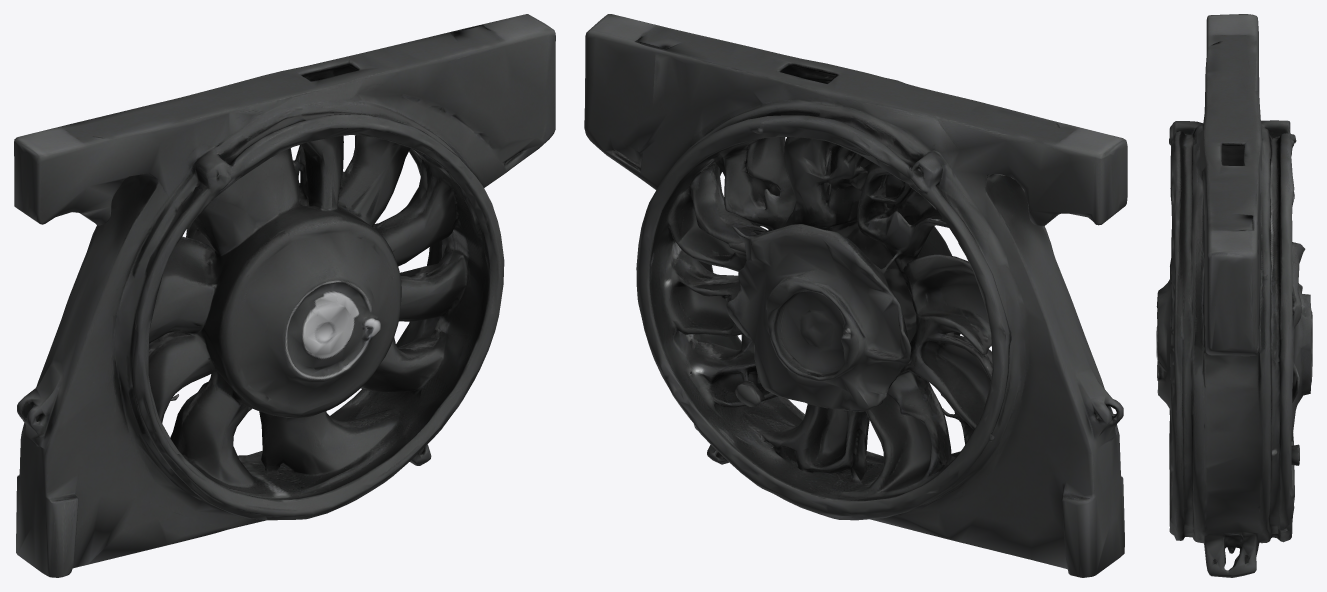
File: cooling-fan.glb
The picture shows the model from 3 angles, left to right: view 1: azimuth 30°, elevation 25°; view 2: azimuth 150°, elevation 25°; view 3: azimuth 270°, elevation 25°; orthographic projection. The views are drawn at different scales.
Size of the model in its own units: 2 by 1.54 by 0.5473.
Materials: 1 (1 with a texture image).
